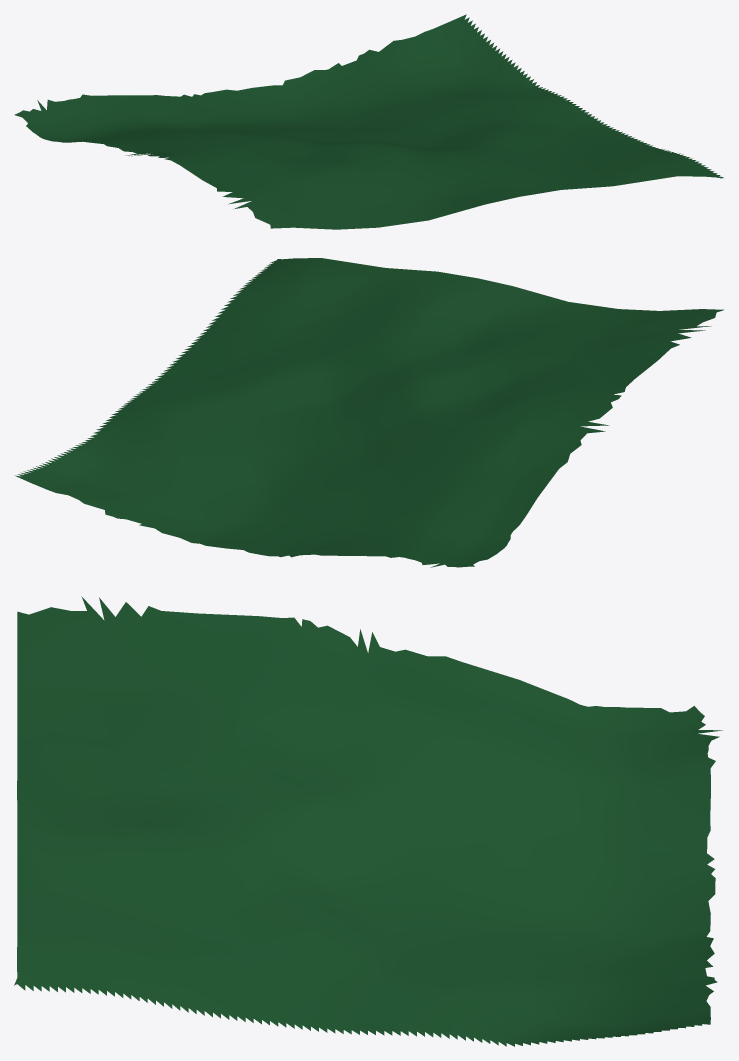
File: payo_land_xm4_y3_lod2.glb
The picture shows the model from 3 angles, top to bottom: view 1: azimuth 30°, elevation 25°; view 2: azimuth 150°, elevation 25°; view 3: azimuth 270°, elevation 25°; orthographic projection. The views are drawn at different scales.
Visible parts, largest first — view 1: payo_land_xm4_y3; view 2: payo_land_xm4_y3; view 3: payo_land_xm4_y3.
Part boxes in pixels (x1,y1,x2,y2): payo_land_xm4_y3: (14, 14, 723, 229); payo_land_xm4_y3: (15, 258, 723, 567); payo_land_xm4_y3: (14, 596, 722, 1046).
Bounding box in the file's own units: 266 × 65.42 × 261.
